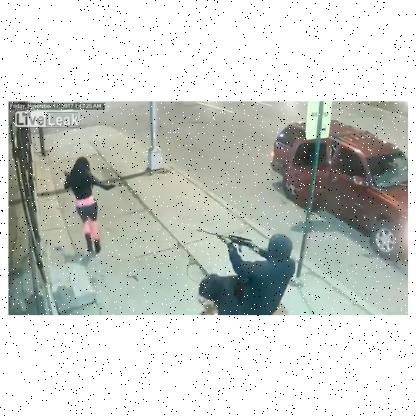gun: (196, 225, 264, 259)
